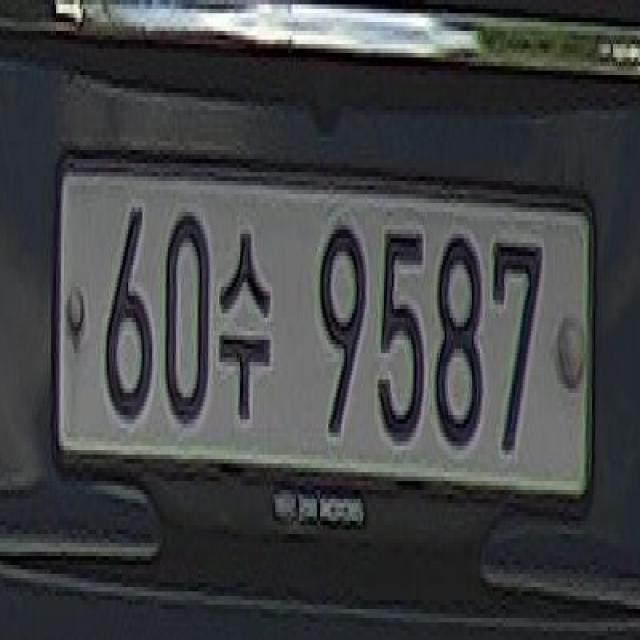0: (161, 195, 211, 429)
5: (376, 216, 428, 448)
6: (100, 193, 154, 426)
7: (488, 232, 548, 461)
8: (430, 226, 484, 446)
9: (314, 215, 371, 446)
license_plate: (51, 120, 600, 540)
su: (214, 212, 278, 427)
